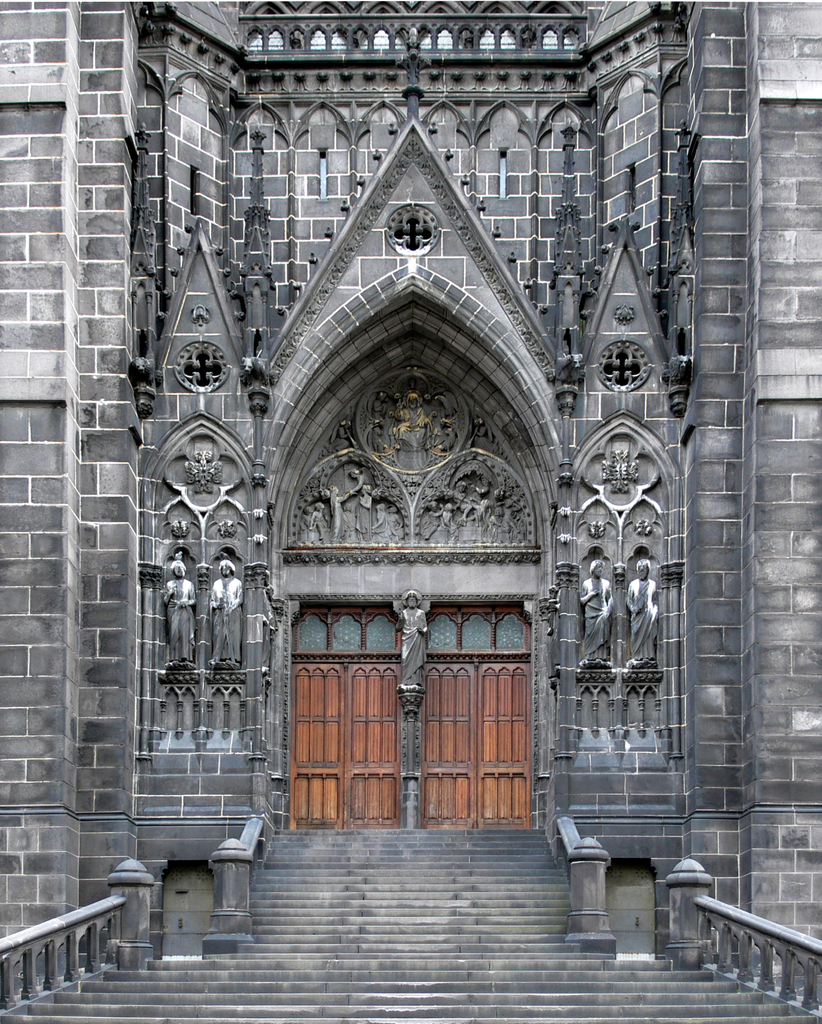door: (477, 670, 536, 818), (290, 670, 342, 821), (423, 670, 473, 818), (348, 670, 397, 816)
